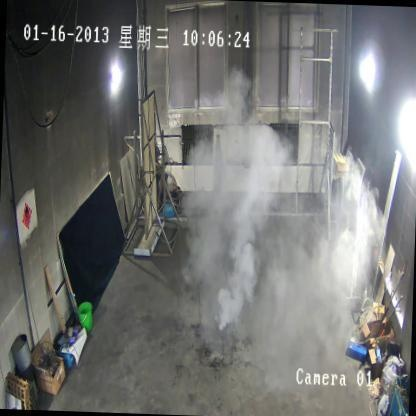smoke: (196, 107, 357, 324)
